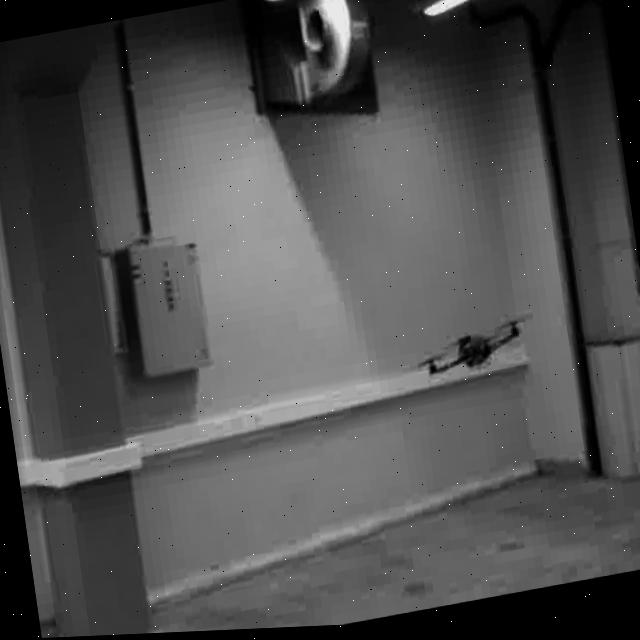drone: (408, 308, 550, 406)
